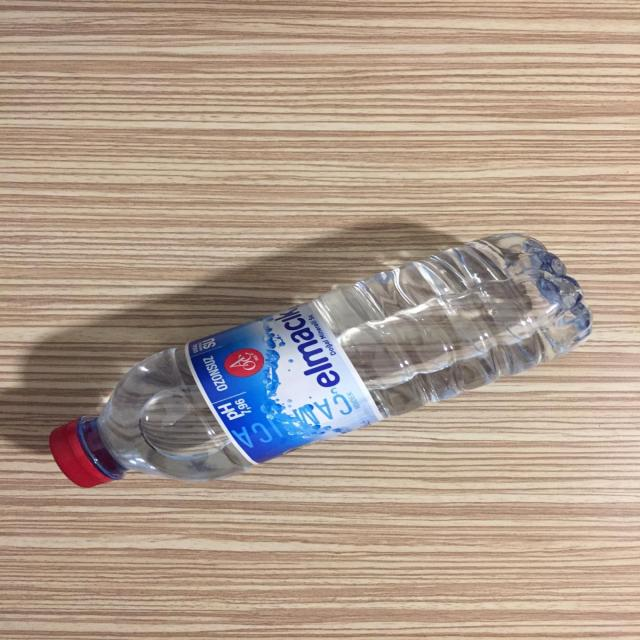bottle: (44, 233, 636, 497)
